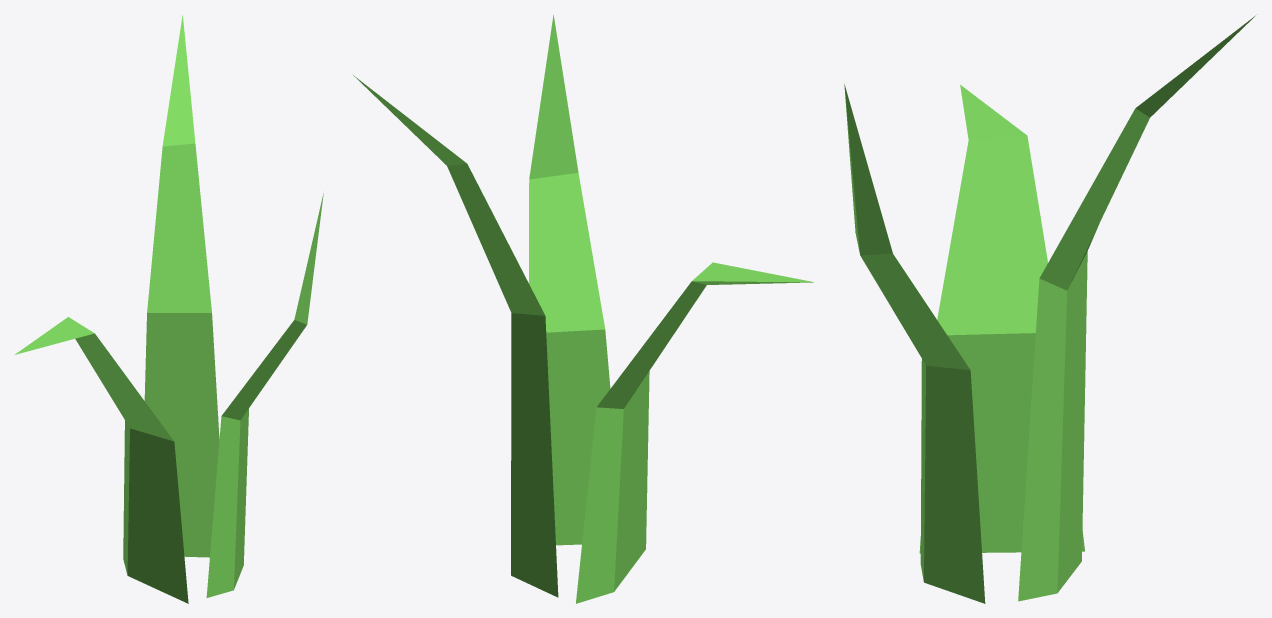
The model's file is Grass0.fbx.
3 views of the same model, side by side, from view 1: azimuth 30°, elevation 25°; view 2: azimuth 150°, elevation 25°; view 3: azimuth 270°, elevation 25° (orthographic). The views are drawn at different scales.
Visible parts, largest first — view 1: Grass0; view 2: Grass0; view 3: Grass0.
Boxes of the visible parts, <box> form: Grass0: <box>15,15,323,603</box>; Grass0: <box>353,15,813,603</box>; Grass0: <box>844,14,1257,603</box>.
Bounding box in the file's own units: 5.72 × 9.44 × 5.95.
